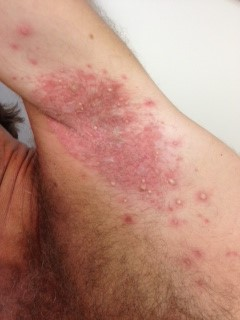Impetigo: (23, 48, 213, 216)
